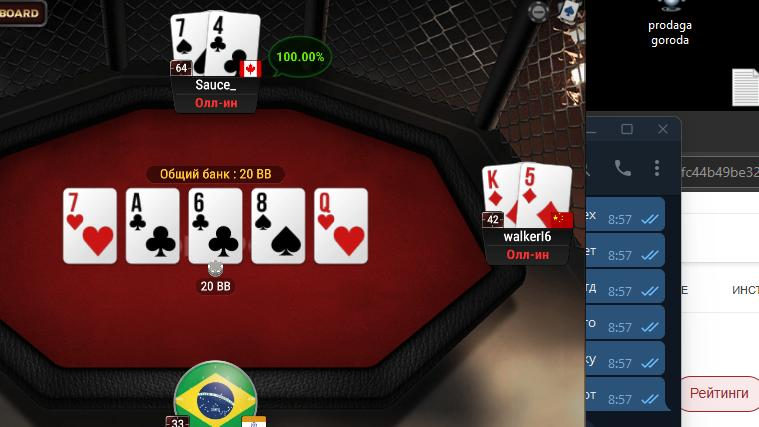4c: (208, 11, 259, 75)
5d: (520, 162, 573, 228)
6c: (189, 188, 242, 262)
7h: (64, 189, 117, 262)
7s: (169, 11, 207, 76)
8s: (251, 189, 305, 261)
Ac: (126, 188, 179, 264)
Kd: (481, 164, 519, 229)
Qh: (314, 189, 368, 264)
